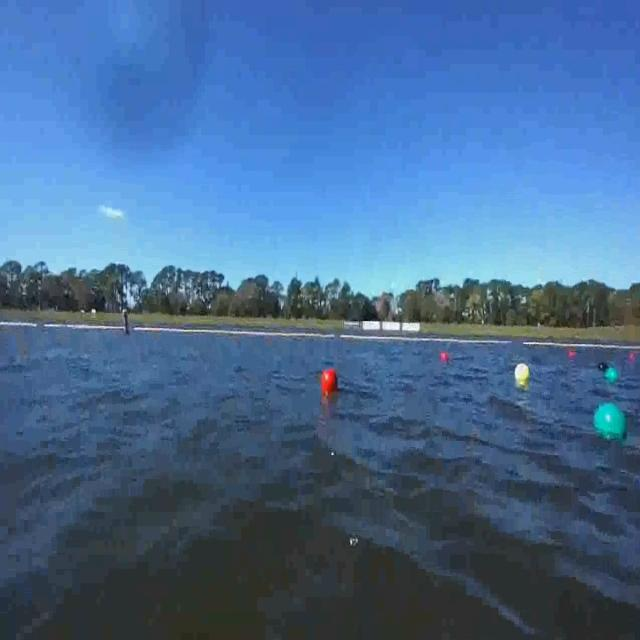green-buoy: (593, 404, 626, 442), (607, 366, 620, 382)
red-buoy: (325, 368, 341, 392), (629, 352, 635, 362)
yellow-buoy: (514, 362, 529, 382)
